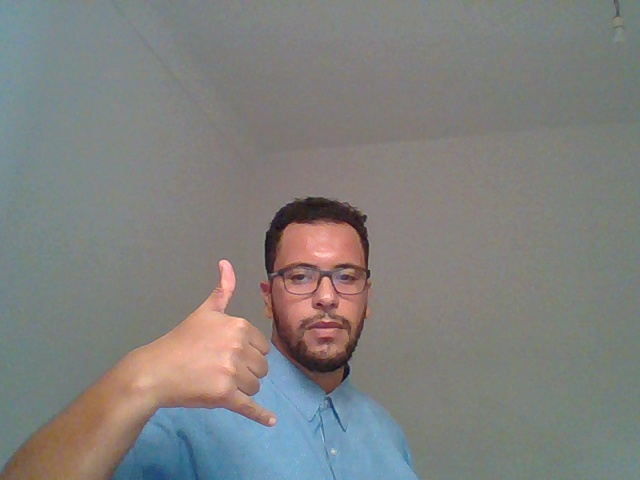callme: (53, 221, 278, 472)
